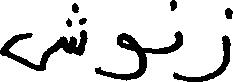X: (0, 0, 84, 75), (184, 3, 232, 81), (99, 28, 142, 81), (177, 26, 182, 81)
